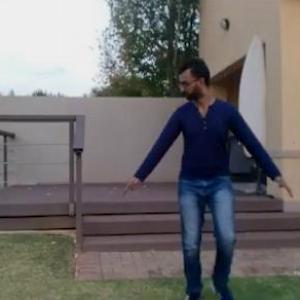land: (112, 53, 297, 299)
